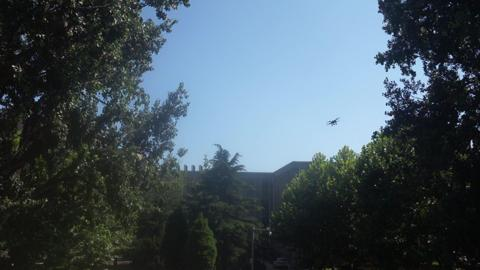UAV: (326, 117, 340, 127)
